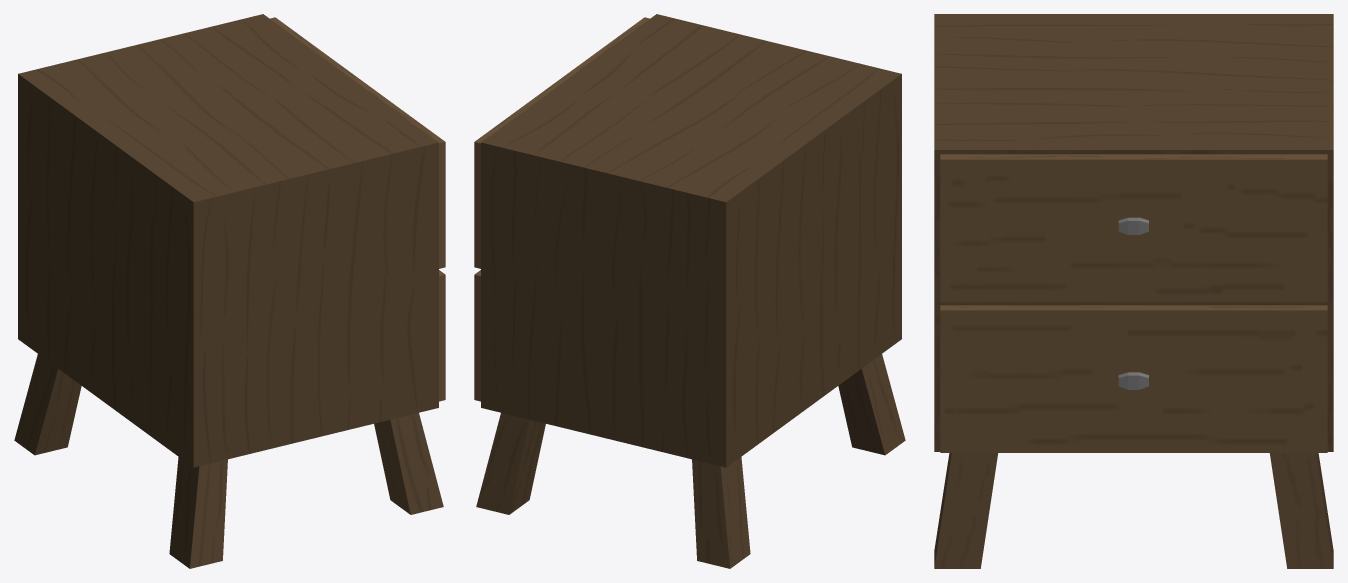
File: LittleOne.fbx
3 renders of one model, left to right at view 1: azimuth 30°, elevation 25°; view 2: azimuth 150°, elevation 25°; view 3: azimuth 270°, elevation 25°, orthographic. The views are drawn at different scales.
Visible parts, largest first — view 1: littleOne.001; view 2: littleOne.001; view 3: littleOne.001.
Part boxes in pixels (x1,y1,x2,y2): littleOne.001: [14, 14, 445, 568]; littleOne.001: [474, 14, 905, 568]; littleOne.001: [934, 14, 1333, 568].
Size of the model in its own units: 56.32 by 73.07 by 63.58.
1 material, 1 textured.
